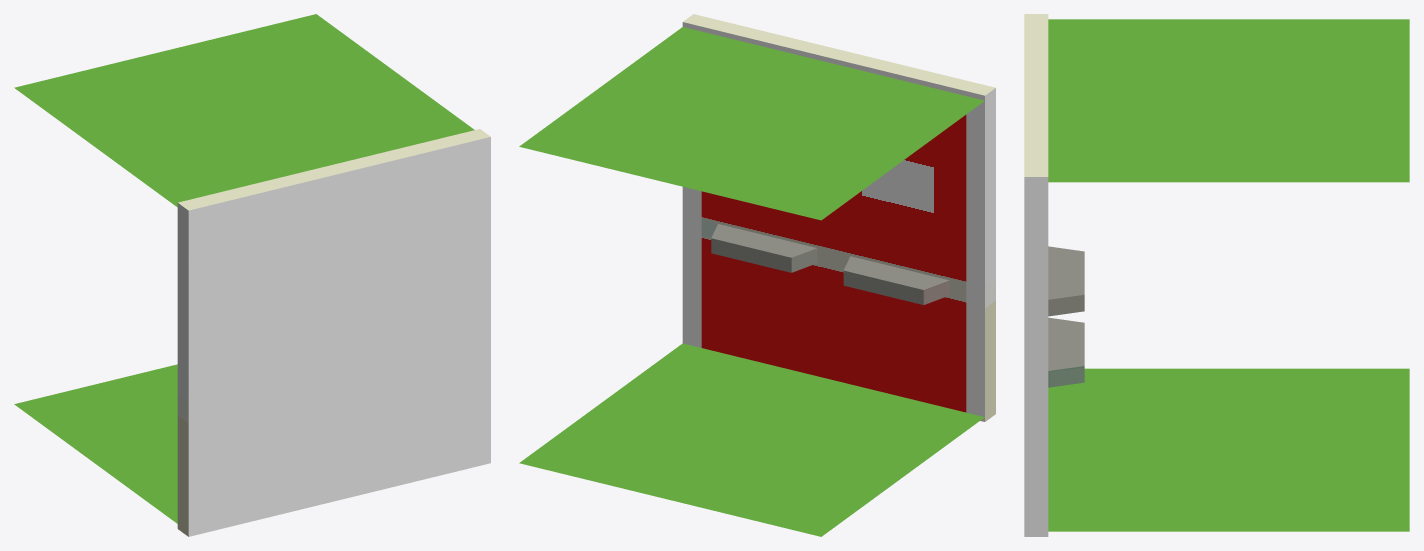
The model's file is FireDoor.gltf.
The picture shows the model from 3 angles, left to right: view 1: azimuth 30°, elevation 25°; view 2: azimuth 150°, elevation 25°; view 3: azimuth 270°, elevation 25°; orthographic projection. The views are drawn at different scales.
Parts seen in each view (by area): view 1: fire door, ceiling, floor; view 2: fire door, floor, ceiling; view 3: ceiling, floor, fire door.
Boxes of the visible parts, x1=… form: fire door: x1=177, y1=129, x2=490, y2=536; ceiling: x1=14, y1=14, x2=474, y2=207; floor: x1=14, y1=364, x2=177, y2=523; fire door: x1=682, y1=14, x2=995, y2=421; floor: x1=519, y1=343, x2=984, y2=536; ceiling: x1=519, y1=27, x2=984, y2=220; ceiling: x1=1048, y1=19, x2=1409, y2=182; floor: x1=1048, y1=368, x2=1409, y2=531; fire door: x1=1024, y1=14, x2=1084, y2=536.
Size of the model in its own units: 2 by 2.06 by 2.
Materials: 2 (2 with a texture image).
